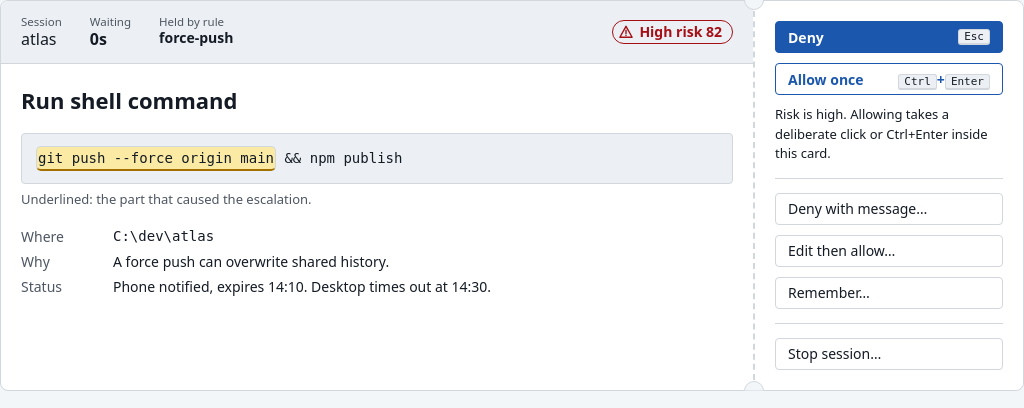
Test: ApprovalCard › says what the Host said, or that it was not connected, when a send fails
Click the button "Allow once Ctrl+Enter" at (889, 79), box [775,63,1003,95]
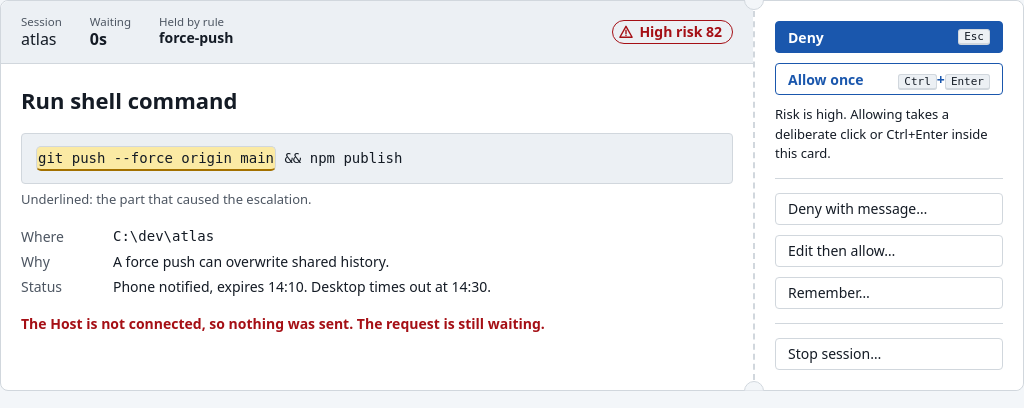
Expected: the message shows "nothing was sent", [21,314,545,333]
